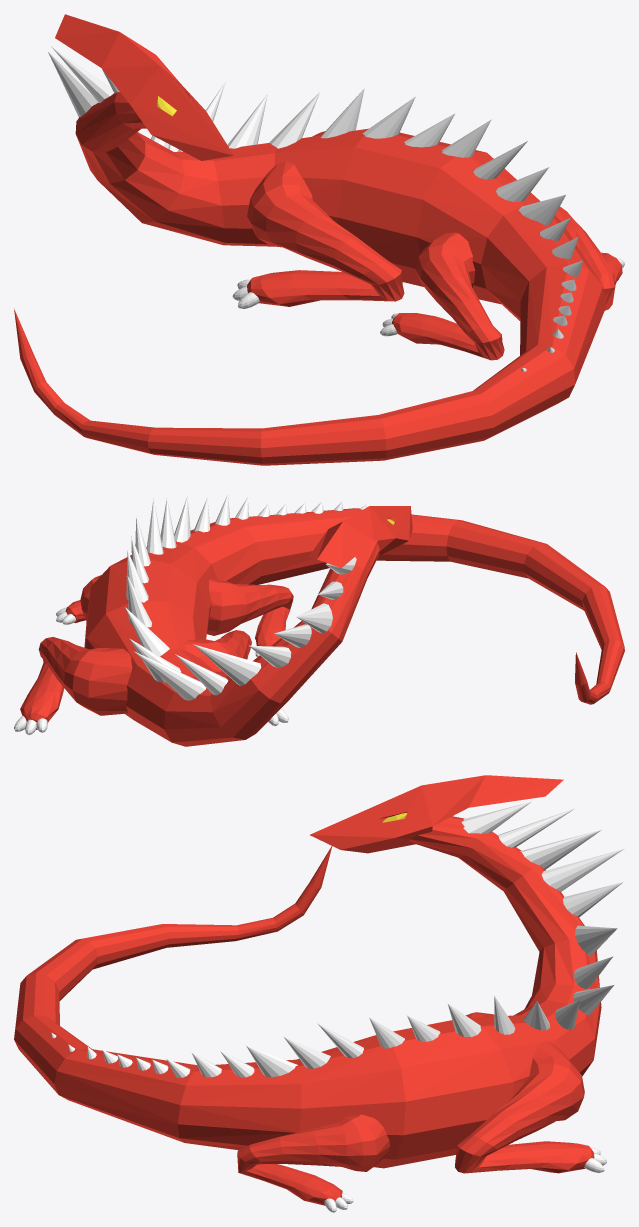
Rendered from dragon.fbx.
3 renders of one model, top to bottom at view 1: azimuth 30°, elevation 25°; view 2: azimuth 150°, elevation 25°; view 3: azimuth 270°, elevation 25°, orthographic. The views are drawn at different scales.
Visible parts, largest first — view 1: group791553109, group1191657099, group2079400095, group1539632855, group741603610, group544480986, group1873611023, group1816864310, group1320352143, group1478041266, group1043984382, group1335151103 (+4 smaller); view 2: group791553109, group295694516, group1539632855, group2079400095, group1191657099, group2033911329, group2110255853, group963589825, group1873611023, group544480986, group1783249618, group741603610 (+8 smaller); view 3: group791553109, group295694516, group2079400095, group741603610, group1997184142, group544480986, group1128120049, group1783249618, group1478041266, group2033911329, group1041782311, group1335151103 (+2 smaller).
Boxes of the visible parts, x1,y1,x2,y2 form: group791553109: [14, 92, 606, 465]; group1191657099: [247, 162, 404, 306]; group2079400095: [55, 14, 233, 160]; group1539632855: [391, 232, 504, 360]; group741603610: [555, 206, 622, 310]; group544480986: [48, 52, 98, 116]; group1873611023: [269, 92, 319, 148]; group1816864310: [227, 94, 267, 148]; group1320352143: [362, 96, 415, 138]; group1478041266: [51, 46, 113, 102]; group1043984382: [320, 88, 364, 138]; group1335151103: [496, 167, 549, 201]; group791553109: [84, 508, 624, 746]; group295694516: [20, 637, 132, 729]; group1539632855: [207, 578, 293, 646]; group2079400095: [309, 506, 412, 567]; group1191657099: [184, 630, 251, 676]; group2033911329: [193, 644, 261, 685]; group2110255853: [133, 651, 205, 700]; group963589825: [175, 654, 228, 695]; group1873611023: [125, 607, 169, 656]; group544480986: [296, 603, 332, 633]; group1783249618: [249, 645, 291, 667]; group741603610: [65, 575, 101, 623]; group791553109: [14, 816, 601, 1168]; group295694516: [455, 1041, 594, 1173]; group2079400095: [310, 775, 563, 853]; group741603610: [237, 1114, 389, 1205]; group1997184142: [541, 849, 623, 891]; group544480986: [520, 830, 601, 869]; group1128120049: [461, 801, 531, 833]; group1783249618: [563, 882, 622, 917]; group1478041266: [497, 808, 574, 847]; group2033911329: [575, 925, 617, 956]; group1041782311: [246, 1045, 297, 1077]; group1335151103: [284, 1037, 330, 1068].
Size of the model in its own units: 202 by 90.35 by 191.
